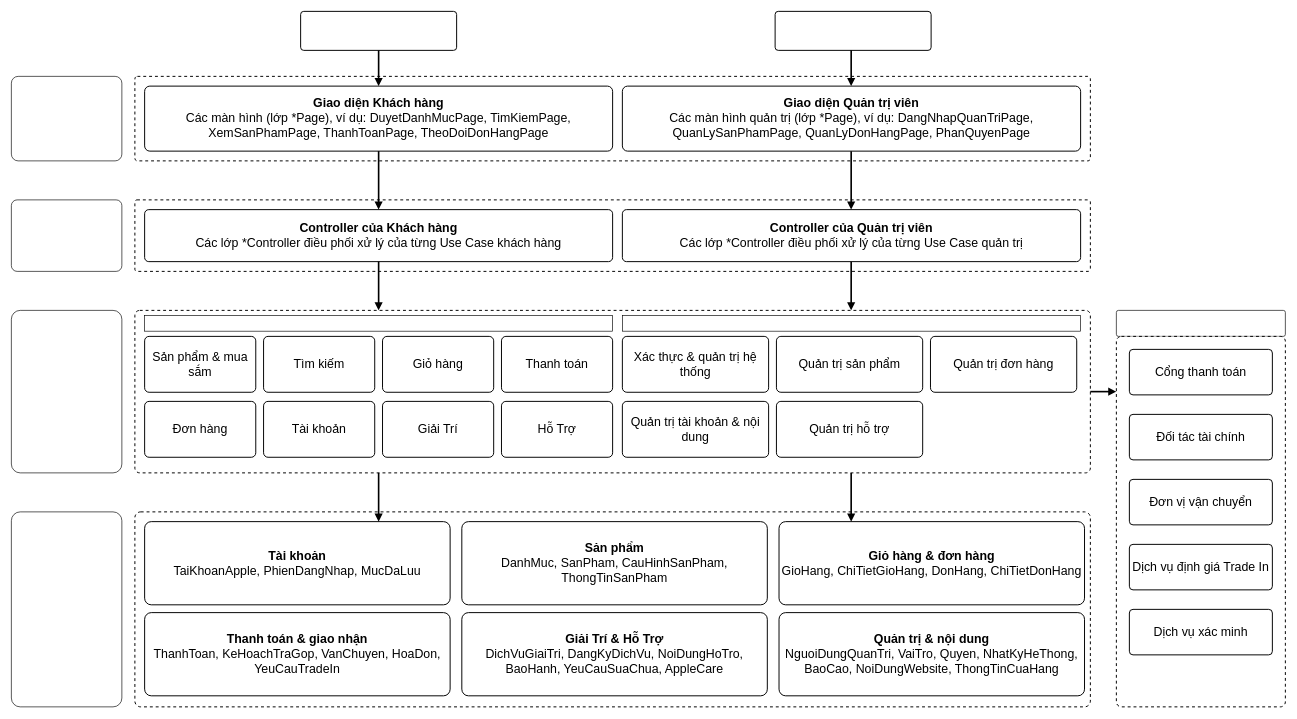
The diagram is 1297 pixels wide and 719 high, and some of its shapes have lost their labels. Here are the shapes that lost their labels. From the top down, the centre of each, then its label:
At point (378, 31): "Khách hàng".
At point (852, 31): "Quản trị viên".
At point (66, 118): "Lớp giao diện (Boundary)".
At point (66, 235): "Lớp API / Control (Controller)".
At point (378, 323): "Nhóm nghiệp vụ Khách hàng".
At point (851, 323): "Nhóm nghiệp vụ Quản trị viên".
At point (1200, 323): "Hệ thống ngoài".
At point (66, 391): "Lớp dịch vụ nghiệp vụ".
At point (66, 609): "Lớp dữ liệu (Entity)".
